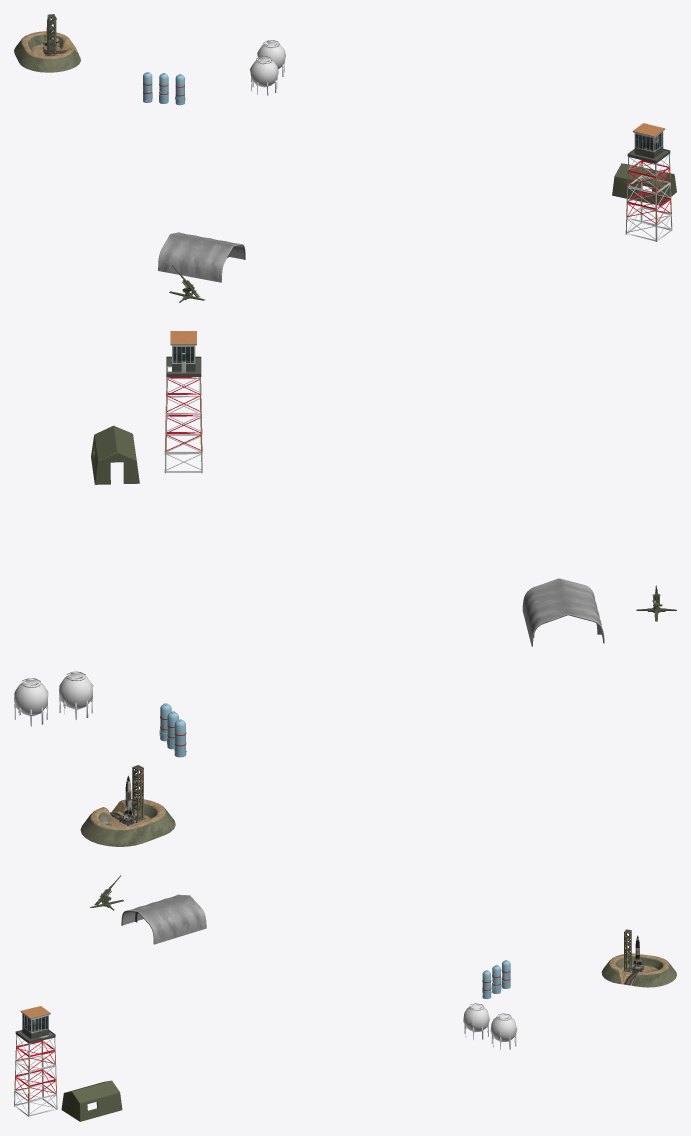
File: Peenemünde.glb
3 renders of one model, top to bottom at view 1: azimuth 30°, elevation 25°; view 2: azimuth 150°, elevation 25°; view 3: azimuth 270°, elevation 25°, orthographic. The views are drawn at different scales.
Visible parts, largest first — view 1: Material1, defaultMaterial.263, clothBuilding001_Material #67_0, Box001_Main Tent_0; view 2: Material1, defaultMaterial.263, clothBuilding001_Material #67_0, Box001_Main Tent_0; view 3: Material1, defaultMaterial.263, clothBuilding001_Material #67_0, Box001_Main Tent_0.
Boxes of the visible parts, x1=… form: Material1: x1=14, y1=14, x2=285, y2=105; defaultMaterial.263: x1=625, y1=123, x2=672, y2=241; clothBuilding001_Material #67_0: x1=158, y1=232, x2=245, y2=282; Box001_Main Tent_0: x1=612, y1=163, x2=676, y2=205; Material1: x1=14, y1=671, x2=186, y2=846; defaultMaterial.263: x1=164, y1=331, x2=202, y2=473; clothBuilding001_Material #67_0: x1=522, y1=578, x2=604, y2=646; Box001_Main Tent_0: x1=91, y1=425, x2=139, y2=484; Material1: x1=463, y1=929, x2=676, y2=1049; defaultMaterial.263: x1=14, y1=1006, x2=57, y2=1116; clothBuilding001_Material #67_0: x1=121, y1=894, x2=206, y2=944; Box001_Main Tent_0: x1=61, y1=1080, x2=122, y2=1121.
Size of the model in its own units: 206 by 41.82 by 260.
13 materials, 6 textured.
